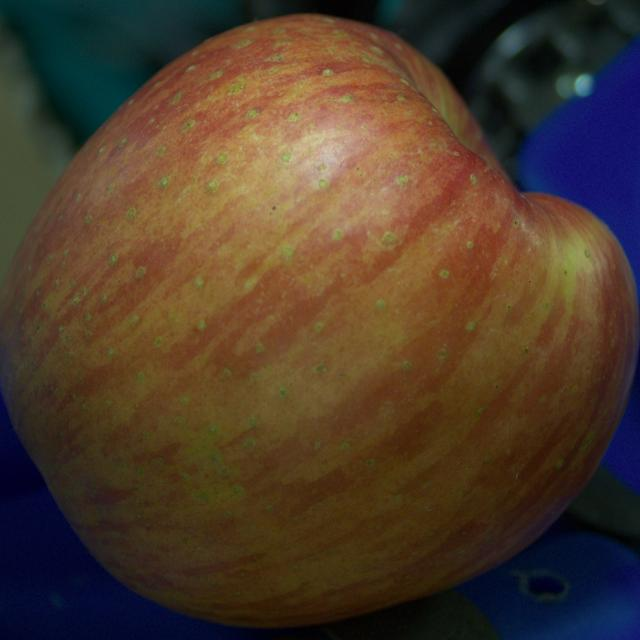apple: (0, 16, 639, 626)
